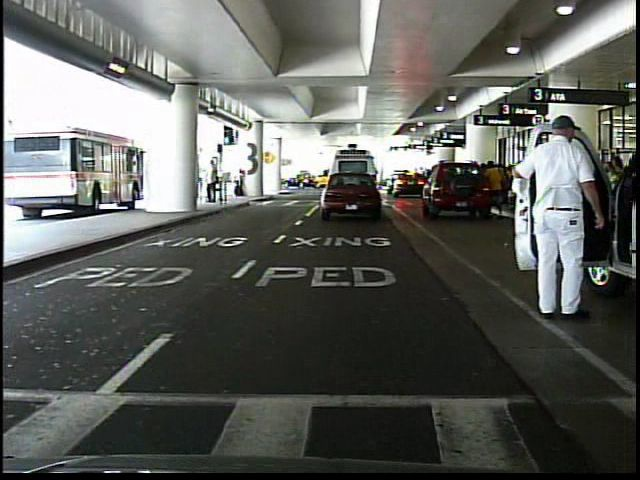person: (509, 109, 605, 322), (565, 149, 595, 225), (487, 156, 507, 220), (204, 155, 221, 207), (233, 164, 249, 200)
